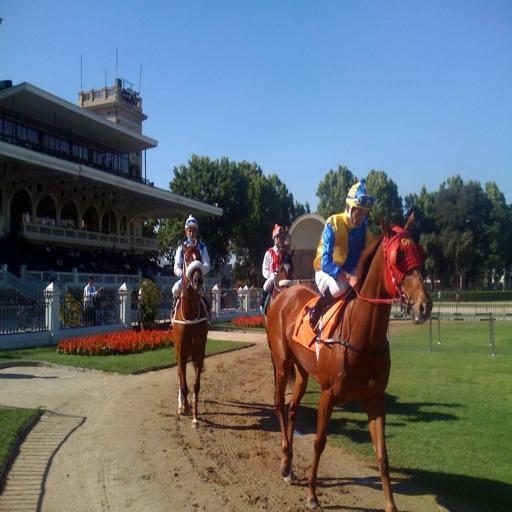horse: (264, 210, 434, 511), (170, 242, 216, 430), (260, 247, 298, 403)
